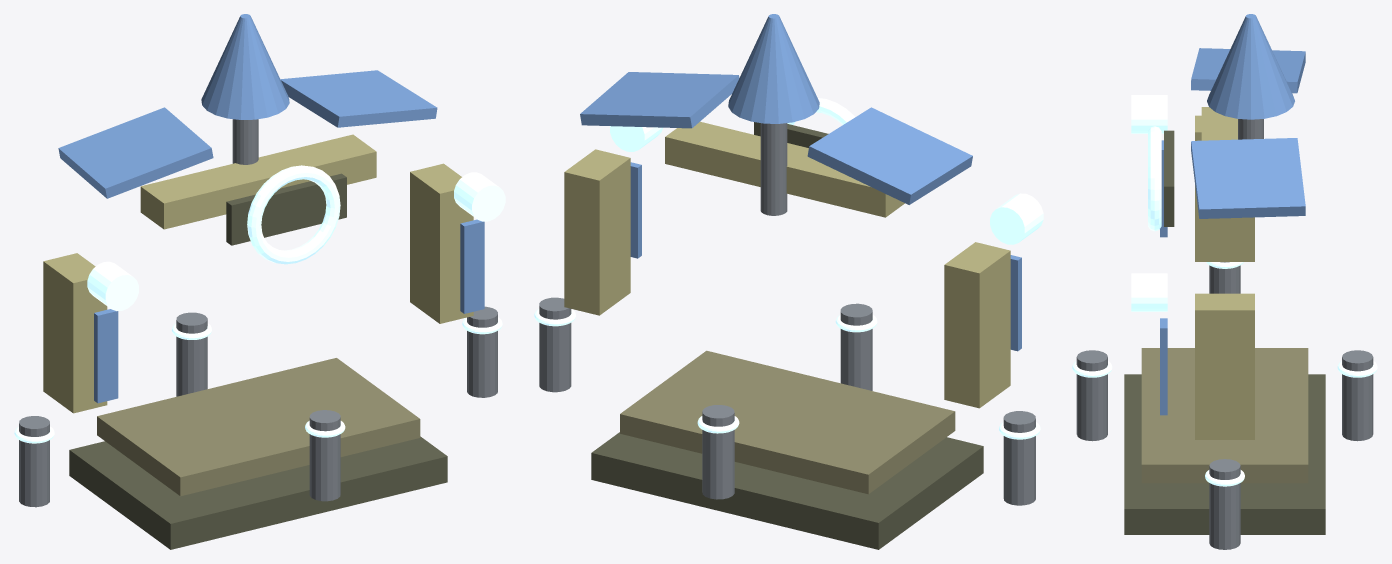
File: asset.glb
3 renders of one model, left to right at view 1: azimuth 30°, elevation 25°; view 2: azimuth 150°, elevation 25°; view 3: azimuth 270°, elevation 25°, orthographic. The views are drawn at different scales.
Visible parts, largest first — view 1: RaisedDeck, Foundation, CrossBeam, CanopyWing_-1, Pylon_-1, Pylon_1, CanopyWing_1, TopMarker, SignPanel, IdentityRing, Bollard_3, Bollard_2 (+7 smaller); view 2: RaisedDeck, Foundation, Pylon_1, Pylon_-1, CanopyWing_-1, CrossBeam, CanopyWing_1, TopMarker, Bollard_2, Bollard_1, Bollard_0, CenterMast (+6 smaller); view 3: RaisedDeck, Foundation, Pylon_1, CanopyWing_1, TopMarker, Bollard_1, Bollard_3, Bollard_0, CanopyWing_-1, Pylon_-1, CrossBeam, Lamp_1 (+6 smaller).
Boxes of the visible parts, box(x1,y1,x2,y2) form: RaisedDeck: box(97, 358, 420, 496); Foundation: box(69, 436, 447, 549); CrossBeam: box(140, 134, 376, 229); CanopyWing_-1: box(58, 107, 213, 198); Pylon_-1: box(43, 253, 107, 413); Pylon_1: box(410, 163, 473, 323); CanopyWing_1: box(280, 70, 437, 127); TopMarker: box(201, 14, 289, 119); SignPanel: box(226, 173, 346, 245); IdentityRing: box(247, 165, 340, 264); Bollard_3: box(309, 410, 340, 501); Bollard_2: box(19, 416, 49, 507); RaisedDeck: box(620, 350, 955, 494); Foundation: box(591, 432, 983, 549); Pylon_1: box(564, 149, 630, 315); Pylon_-1: box(944, 242, 1010, 408); CanopyWing_-1: box(807, 107, 972, 204); CrossBeam: box(665, 121, 904, 217); CanopyWing_1: box(580, 72, 739, 128); TopMarker: box(728, 14, 819, 123); Bollard_2: box(1003, 411, 1035, 505); Bollard_1: box(702, 405, 734, 499); Bollard_0: box(539, 297, 571, 392); CenterMast: box(760, 123, 787, 215); RaisedDeck: box(1141, 348, 1308, 483); Foundation: box(1124, 374, 1325, 534); Pylon_1: box(1195, 293, 1254, 439); CanopyWing_1: box(1191, 138, 1305, 218); TopMarker: box(1207, 14, 1294, 119); Bollard_1: box(1342, 350, 1373, 441); Bollard_3: box(1076, 350, 1107, 441); Bollard_0: box(1209, 459, 1240, 549); CanopyWing_-1: box(1191, 48, 1305, 93); Pylon_-1: box(1195, 115, 1254, 261); CrossBeam: box(1201, 107, 1248, 236); Lamp_1: box(1131, 273, 1167, 311).
Bounding box in the file's own units: 4.27 × 3.83 × 2.35.
